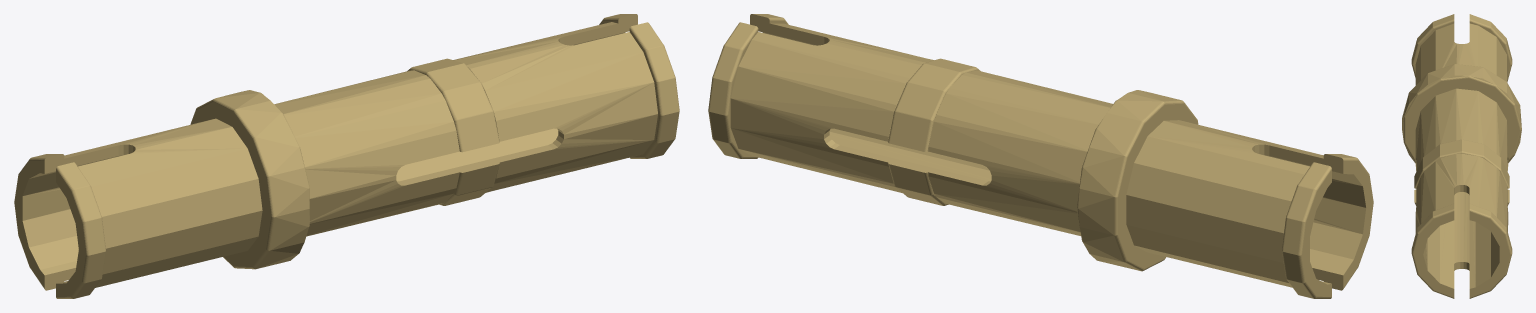
File: Sand_4514554_MCM.fbx
The picture shows the model from 3 angles, left to right: view 1: azimuth 30°, elevation 25°; view 2: azimuth 150°, elevation 25°; view 3: azimuth 270°, elevation 25°; orthographic projection. The views are drawn at different scales.
Parts seen in each view (by area): view 1: Sand_4514554_MCM; view 2: Sand_4514554_MCM; view 3: Sand_4514554_MCM.
Part boxes in pixels (x1,y1,x2,y2): Sand_4514554_MCM: [14, 14, 679, 298]; Sand_4514554_MCM: [708, 14, 1373, 298]; Sand_4514554_MCM: [1402, 14, 1521, 298].
Bounding box in the file's own units: 2.4 × 0.6155 × 0.62.
